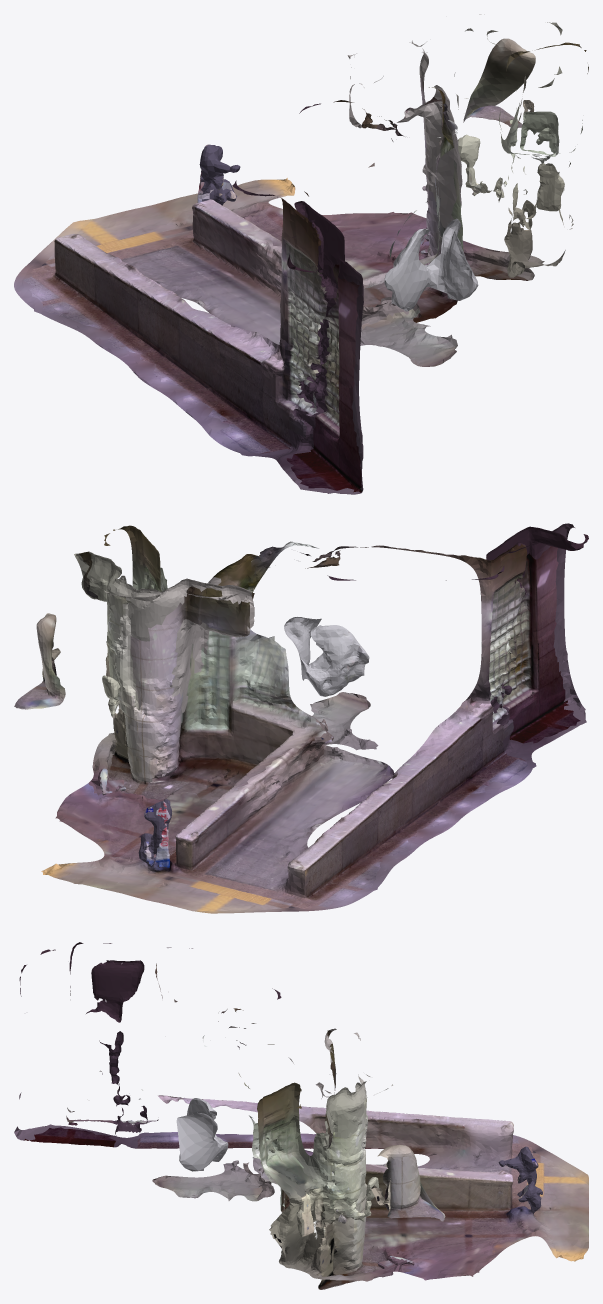
3 views of the same model, one above another, from view 1: azimuth 30°, elevation 25°; view 2: azimuth 150°, elevation 25°; view 3: azimuth 270°, elevation 25° (orthographic). The views are drawn at different scales.
Bounding box in the file's own units: 7.62 × 4.2 × 10.69.
1 material, 1 textured.
